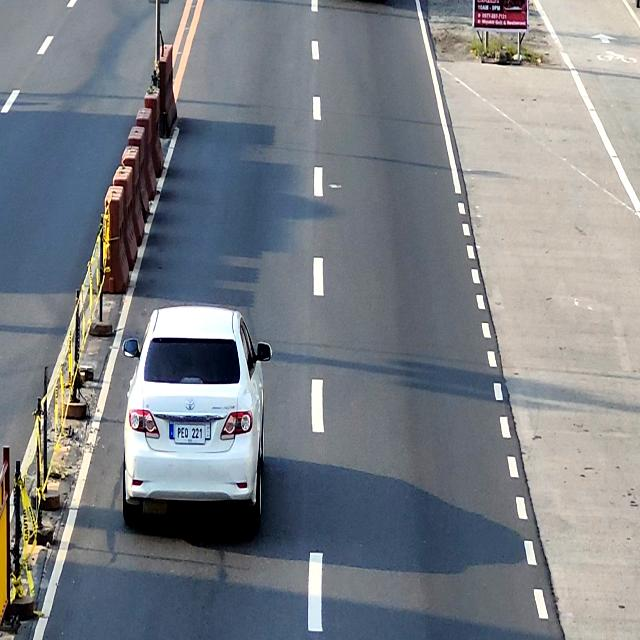Car: (121, 305, 272, 533)
License-Plate: (175, 424, 204, 444)
